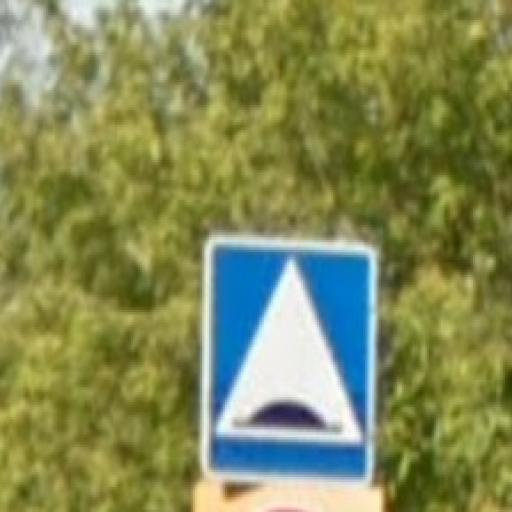traffic_sign: (202, 233, 379, 488)
